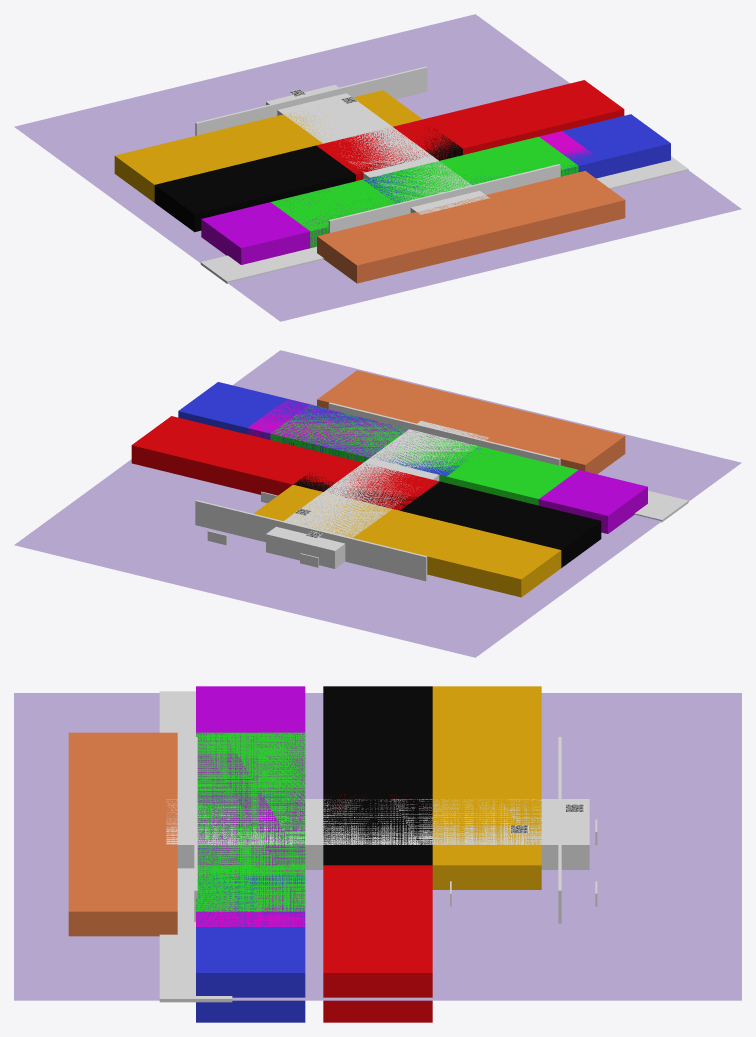
The model's file is campus.glb.
3 views of the same model, one above another, from view 1: azimuth 30°, elevation 25°; view 2: azimuth 150°, elevation 25°; view 3: azimuth 270°, elevation 25° (orthographic). The views are drawn at different scales.
Visible parts, largest first — view 1: Ground_Floor, Mechanical_Lab, M_Library, EEE_Lab, Principle_Office, Admin_Office, M_Entrance, Canteen, Civil_Lab, Front_Wall, Back_Wall, Left_Wall (+2 smaller); view 2: Ground_Floor, M_Library, Admin_Office, Mechanical_Lab, EEE_Lab, M_Entrance, Principle_Office, Canteen, Front_Wall, Seminar_Hall, Civil_Lab, Back_Wall (+1 smaller); view 3: Ground_Floor, Mechanical_Lab, Admin_Office, Principle_Office, EEE_Lab, M_Library, M_Entrance, Civil_Lab, Canteen, Right_Wall, Seminar_Hall, Left_Wall (+2 smaller).
Part boxes in pixels (box(x1,y1,x2,y2)): Ground_Floor: box(14, 14, 741, 321); Mechanical_Lab: box(317, 171, 625, 283); M_Library: box(316, 80, 624, 180); EEE_Lab: box(271, 136, 578, 248); Principle_Office: box(154, 128, 462, 232); Admin_Office: box(114, 90, 422, 202); M_Entrance: box(266, 85, 489, 214); Canteen: box(364, 114, 670, 203); Civil_Lab: box(201, 186, 409, 264); Front_Wall: box(195, 66, 427, 135); Back_Wall: box(328, 164, 560, 232); Left_Wall: box(200, 246, 323, 283); Ground_Floor: box(14, 350, 741, 657); M_Library: box(131, 416, 439, 510); Admin_Office: box(253, 484, 561, 597); Mechanical_Lab: box(317, 370, 625, 474); EEE_Lab: box(270, 405, 578, 505); M_Entrance: box(266, 421, 489, 568); Principle_Office: box(293, 473, 601, 567); Canteen: box(178, 382, 482, 476); Front_Wall: box(195, 500, 427, 581); Seminar_Hall: box(247, 399, 481, 466); Civil_Lab: box(525, 470, 647, 533); Back_Wall: box(328, 402, 560, 465); Ground_Floor: box(14, 693, 741, 1000); Mechanical_Lab: box(68, 732, 177, 936); Admin_Office: box(432, 686, 541, 889); Principle_Office: box(323, 686, 432, 865); EEE_Lab: box(196, 732, 305, 911); M_Library: box(323, 794, 432, 1022); M_Entrance: box(166, 799, 589, 869); Civil_Lab: box(196, 686, 305, 865); Canteen: box(196, 794, 305, 1022); Right_Wall: box(159, 868, 232, 1002); Seminar_Hall: box(196, 810, 305, 926); Left_Wall: box(159, 691, 195, 798).
Size of the model in its own units: 40 by 4 by 40.
Materials: 15 (1 with a texture image).
